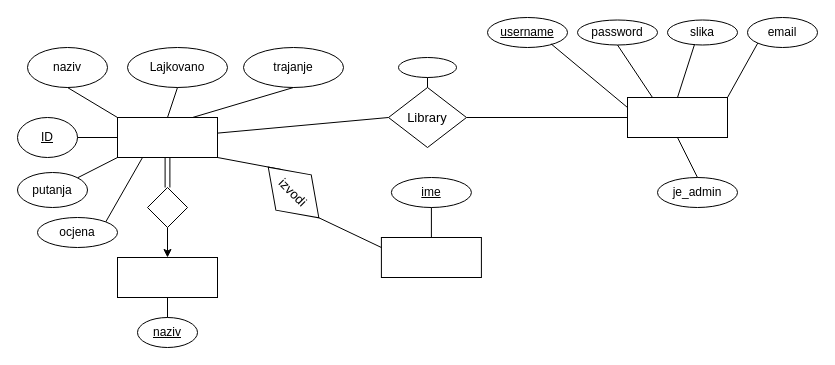
Image size: 835x365. Some labels were removed from this diagram. Here are the shapes that lost their labels. From the top down, the box of each, then its label:
(398, 56, 456, 78): br_pjesama
(116, 116, 218, 158): Pjesma
(626, 96, 728, 138): Korisnik
(116, 256, 218, 298): Zanr
(380, 236, 481, 278): Izvodjac
